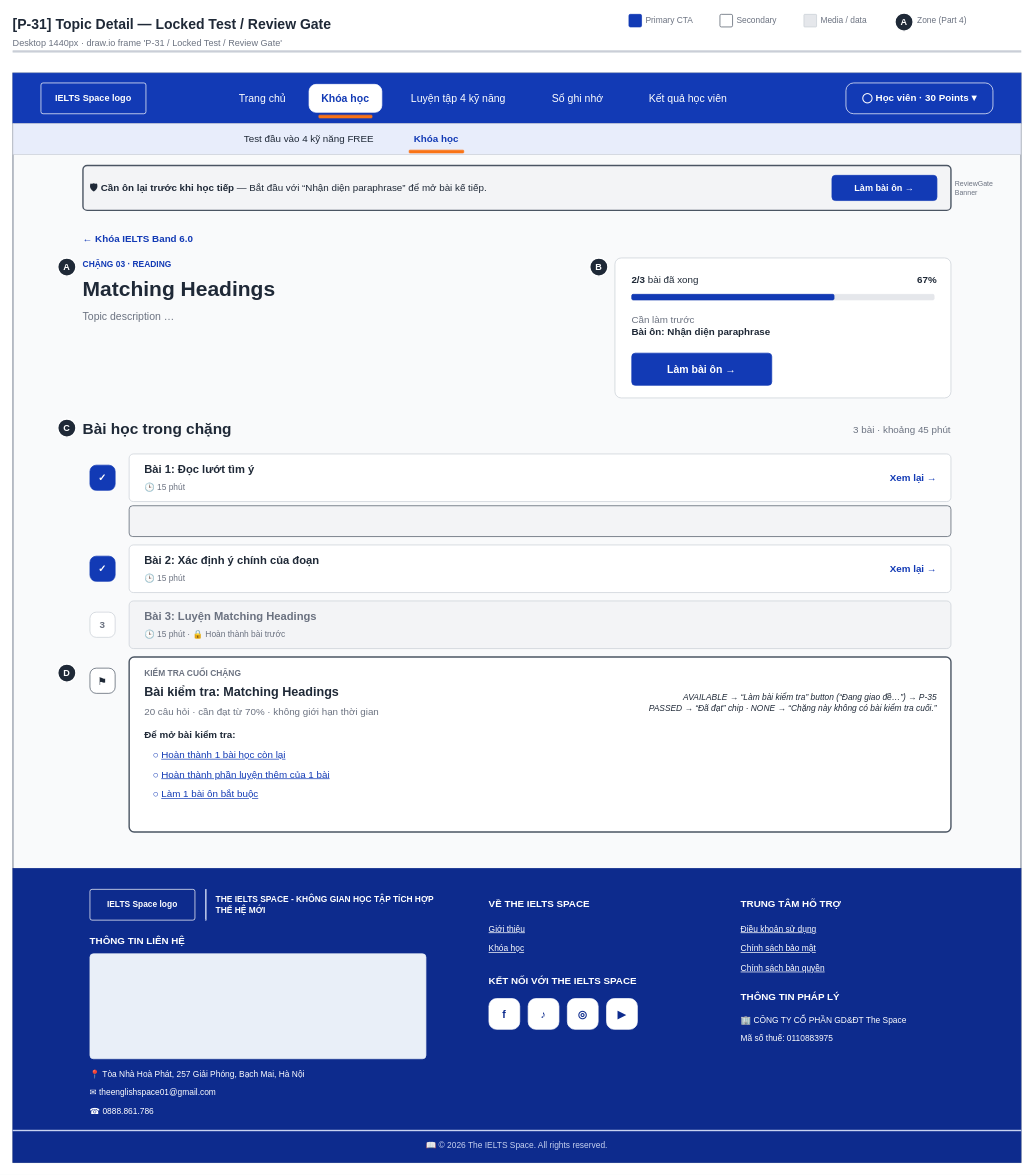
This 1034x1175 diagram has some shape labels left out. The box of each missing label's shape, as (x1, y1, x2, y2) in pixels:
🏋 Cần luyện thêm trước khi mở bài kiểm tra chặng — Luyện ngay → (P-33): (128, 505, 951, 537)
📍 The IELTS Space Mở trong Maps ↗: (89, 953, 426, 1059)
